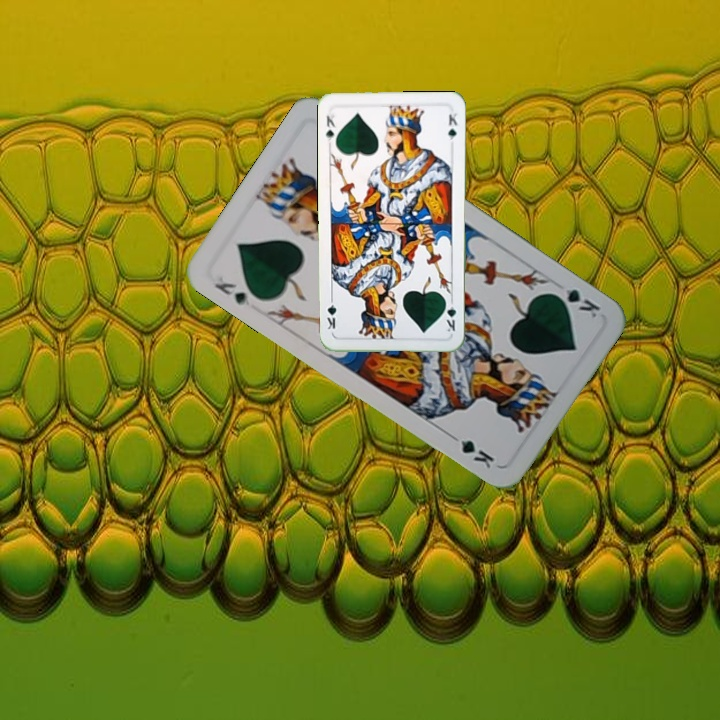GK: (547, 283, 602, 321), (210, 271, 253, 309), (442, 295, 459, 334), (322, 111, 338, 144)
